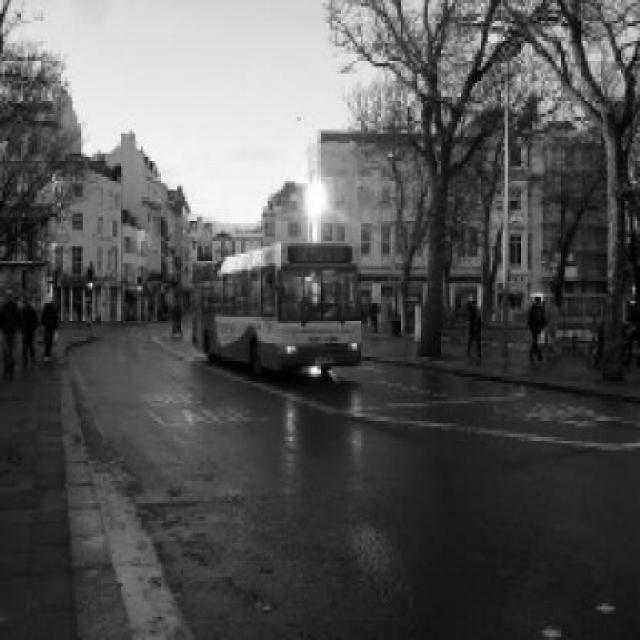Bus: (188, 243, 361, 370)
